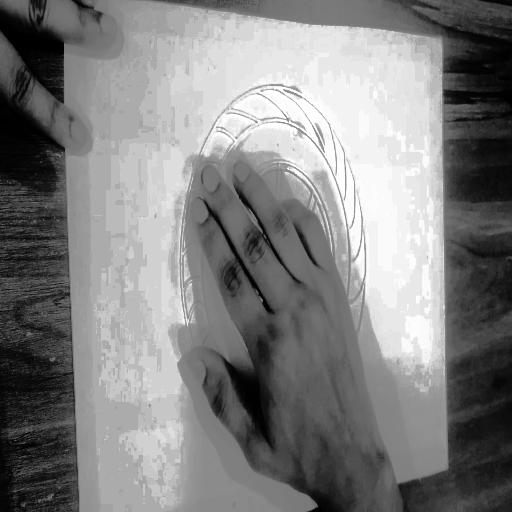bottom_right: (443, 456, 454, 473)
tire: (169, 64, 378, 450)
top_right: (437, 29, 446, 43)
